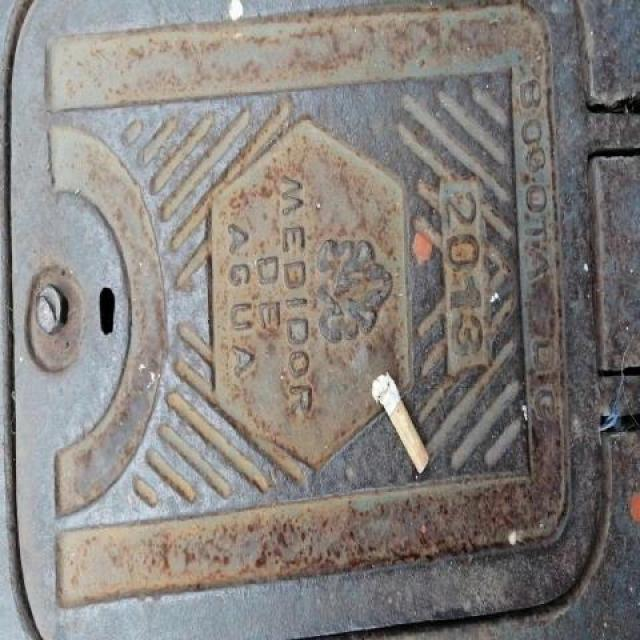non-organic waste: (368, 370, 432, 478)
